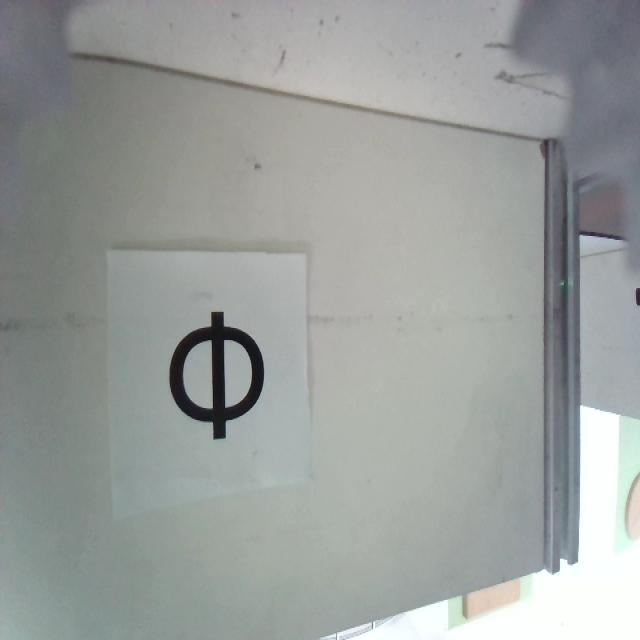F: (168, 311, 267, 436)
